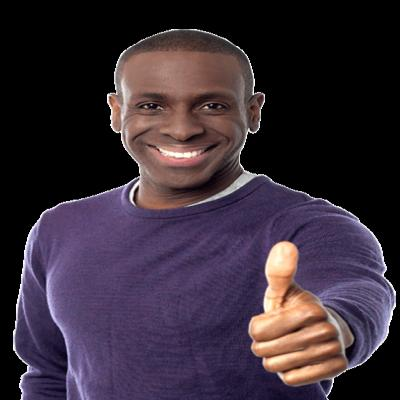happy: (101, 30, 267, 187)
